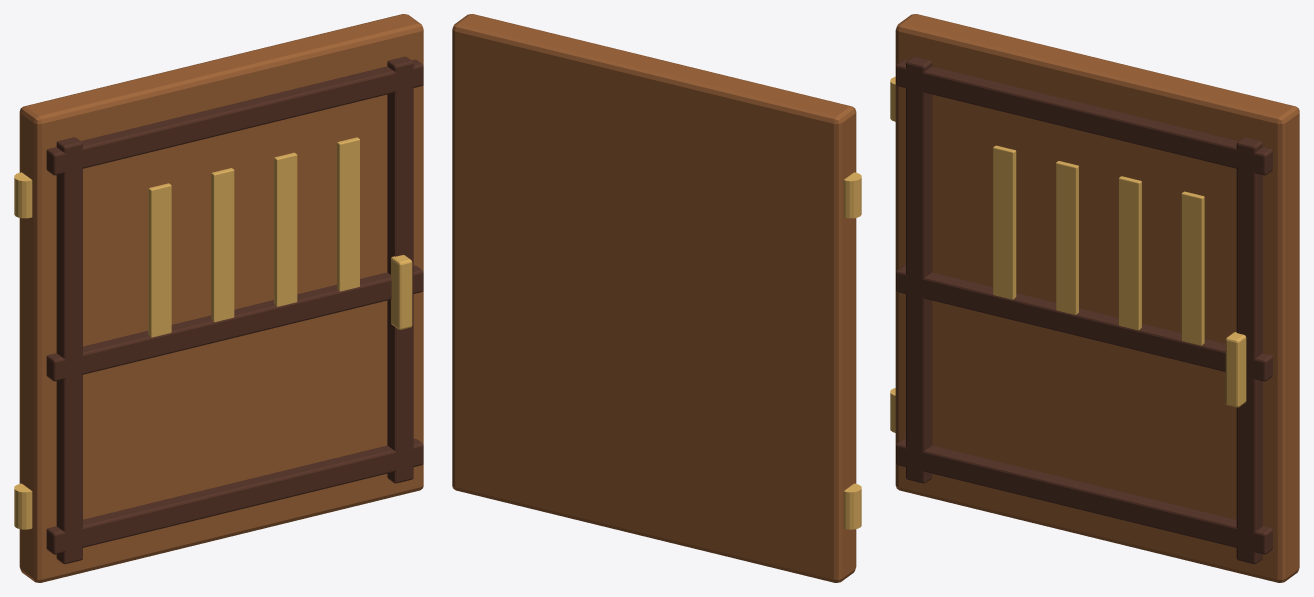
Rendered from door-left.glb.
The picture shows the model from 3 angles, left to right: view 1: azimuth 30°, elevation 25°; view 2: azimuth 150°, elevation 25°; view 3: azimuth 330°, elevation 25°; orthographic projection.
Visible parts, largest first — view 1: RM_door timber, RM_door rail.002, RM_door carving.001; view 2: RM_door timber, RM_door carving.001; view 3: RM_door timber, RM_door rail.002, RM_door carving.001.
Part boxes in pixels (x1,y1,x2,y2): RM_door timber: (19,14,423,582); RM_door rail.002: (46,56,423,564); RM_door carving.001: (14,137,412,529); RM_door timber: (452,14,856,582); RM_door carving.001: (843,172,861,529); RM_door timber: (895,14,1299,582); RM_door rail.002: (896,56,1272,564); RM_door carving.001: (890,76,1246,432).
Size of the model in its own units: 1.91 by 2.13 by 0.29.
